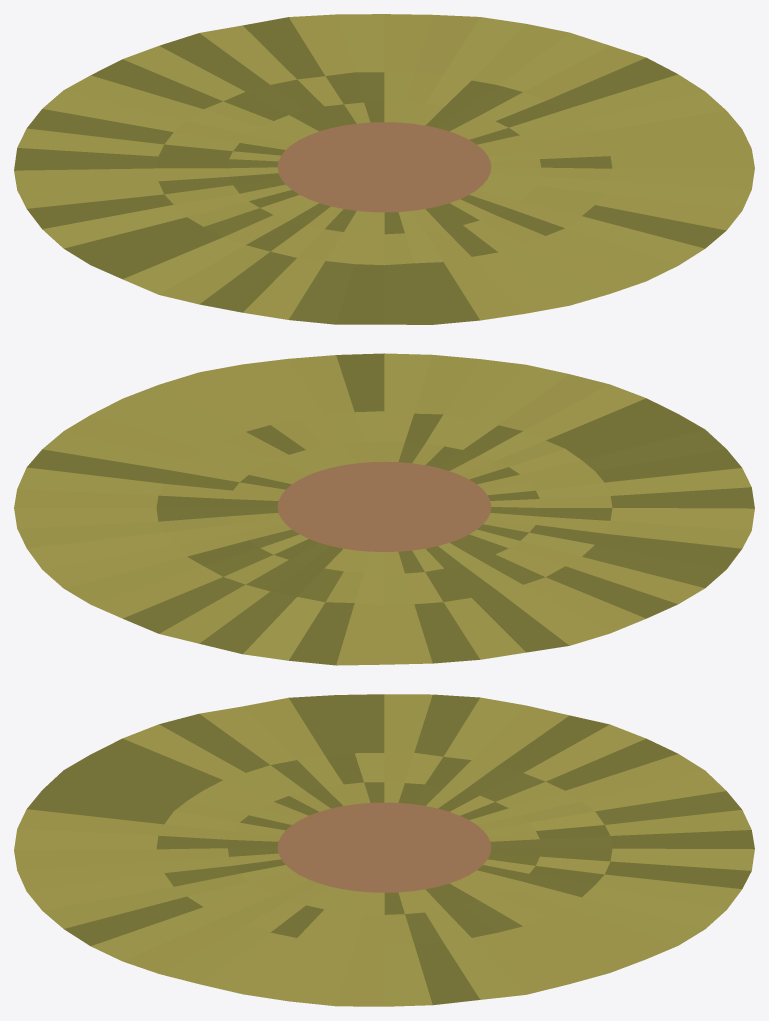
File: SM_AmphiRim.fbx
3 renders of one model, top to bottom at view 1: azimuth 30°, elevation 25°; view 2: azimuth 150°, elevation 25°; view 3: azimuth 270°, elevation 25°, orthographic.
Visible parts, largest first — view 1: SM_AmphiRim; view 2: SM_AmphiRim; view 3: SM_AmphiRim.
Boxes of the visible parts, box(x1,y1,x2,y2) form: SM_AmphiRim: box(14, 14, 754, 324); SM_AmphiRim: box(14, 353, 754, 665); SM_AmphiRim: box(14, 694, 754, 1006).
Bounding box in the file's own units: 520 × 520 × 2.64.
